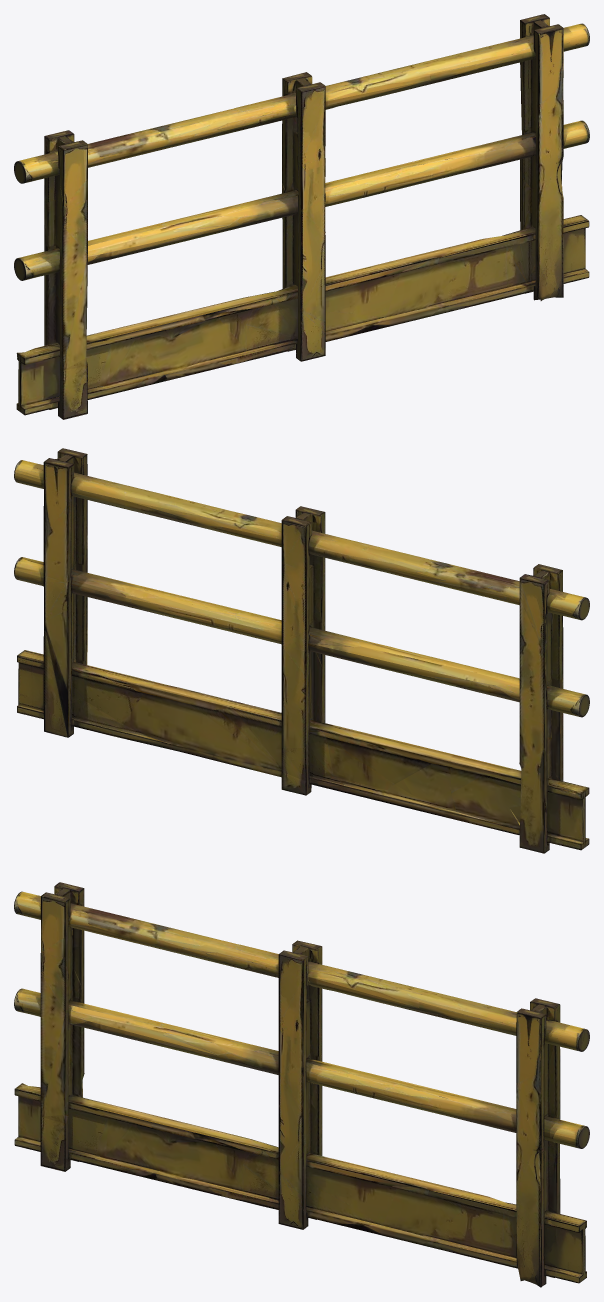
The model's file is deck_rail.glb.
The picture shows the model from 3 angles, top to bottom: view 1: azimuth 30°, elevation 25°; view 2: azimuth 150°, elevation 25°; view 3: azimuth 330°, elevation 25°; orthographic projection.
Bounding box in the file's own units: 1.9 × 0.8706 × 0.1129.
Materials: 1 (1 with a texture image).
